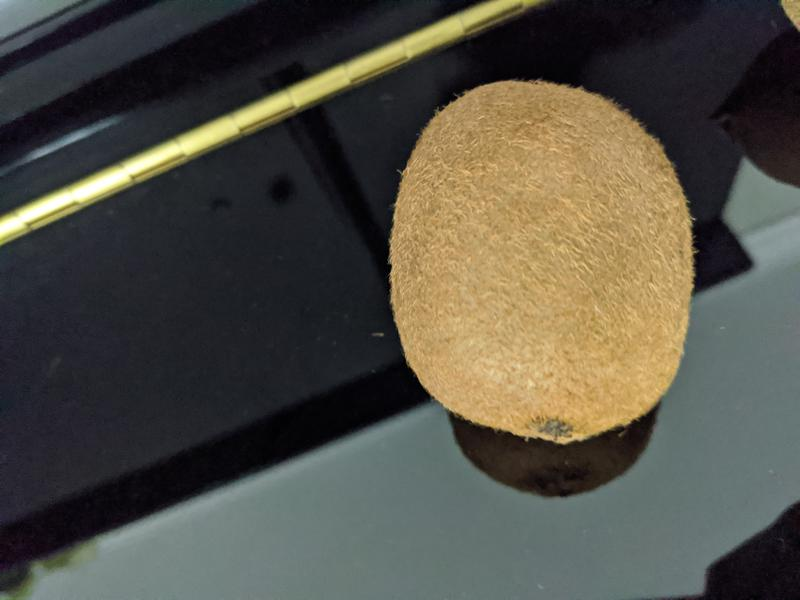kiwi: (388, 79, 695, 445)
